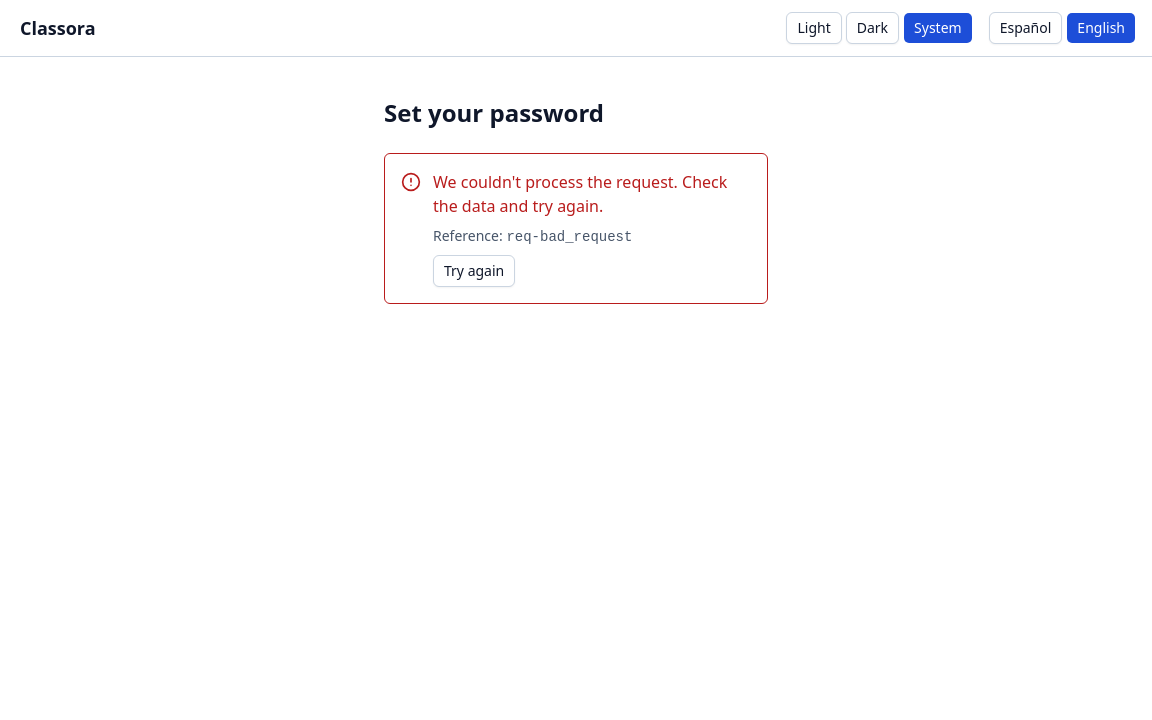
it: the lookup (J4) › a server error offers a retry that looks the link up again
The width and height of the screenshot is (1152, 720).
Step 1. Click the button "Try again" → click(474, 271), box [433,255,515,287]
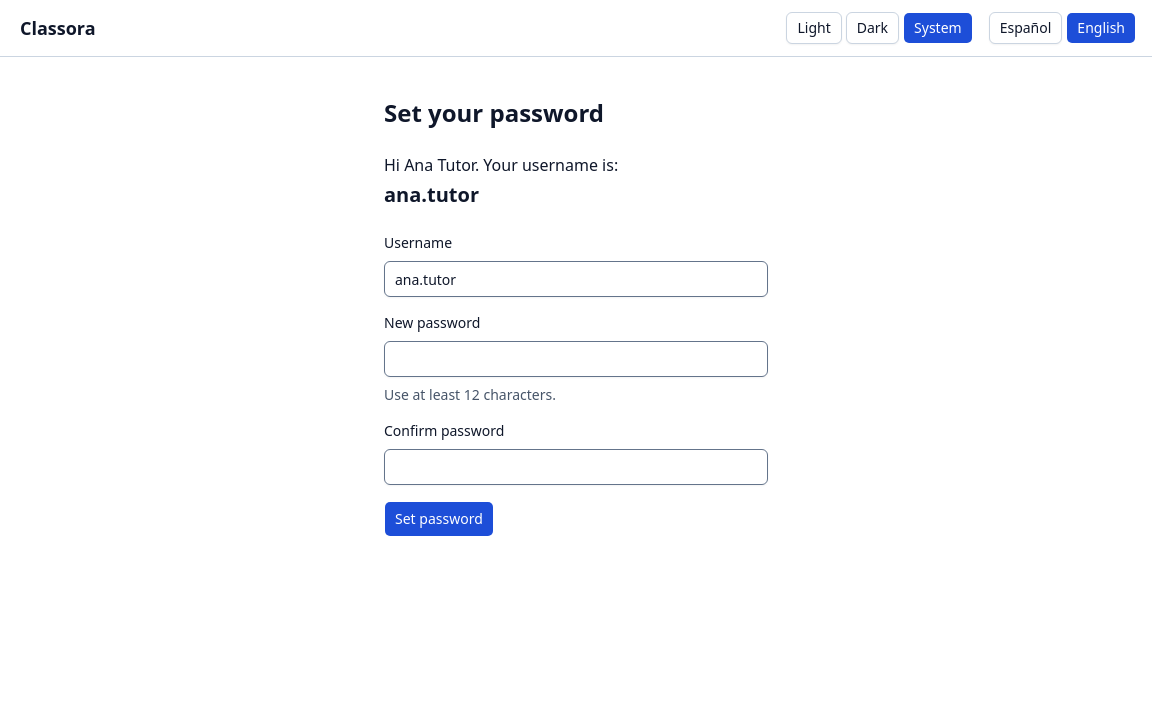
expect the form is shown: met, box [384,233,768,537]
